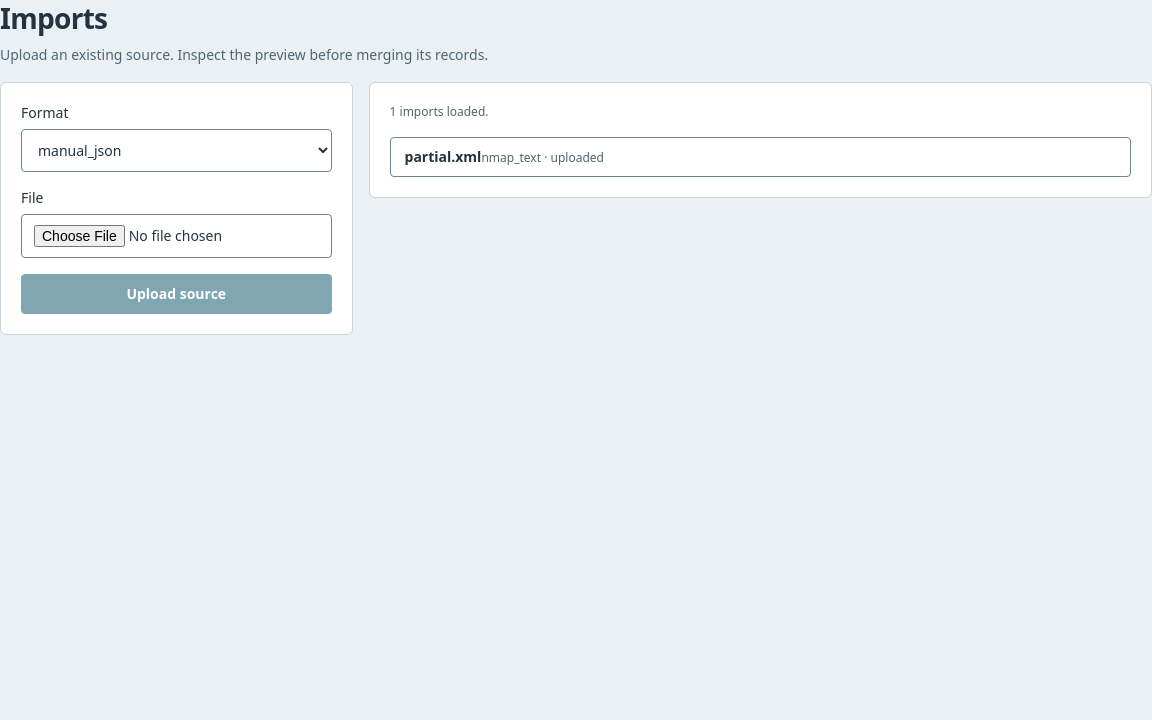
requires explicit review of partial import limitations before merge
Click the button "partial.xml" at [443, 157], box [390,137,1131,177]
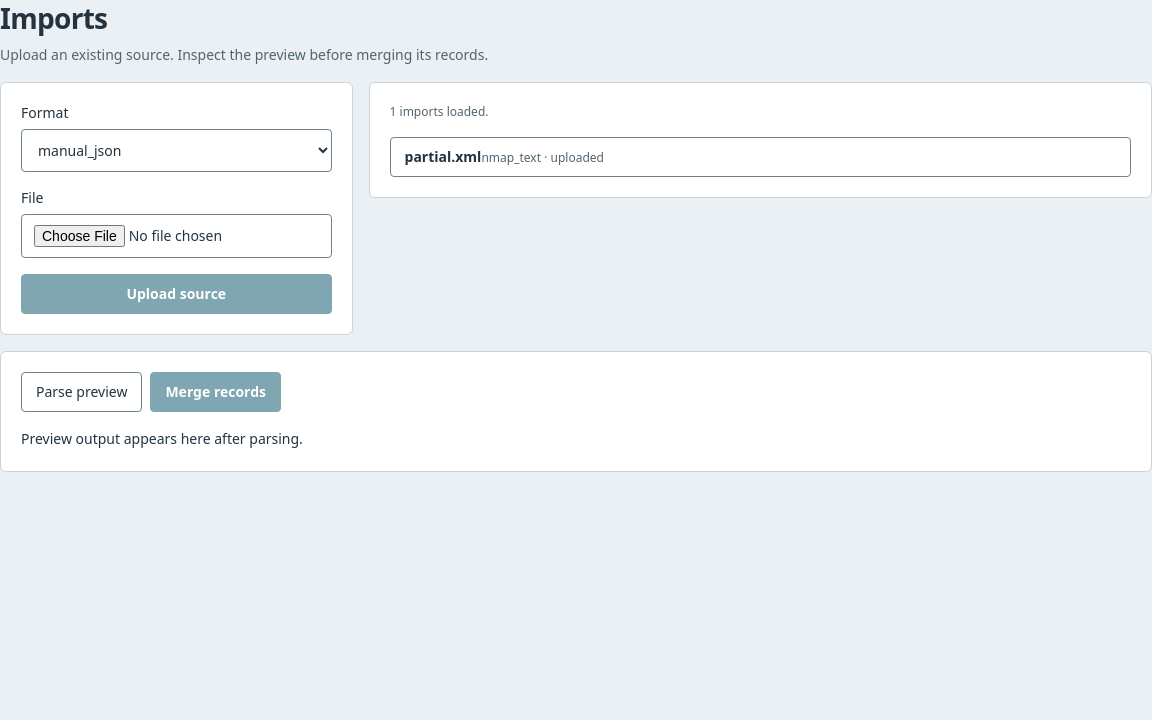
Click the button "Parse preview" at [82, 392], box [21,372,142,412]
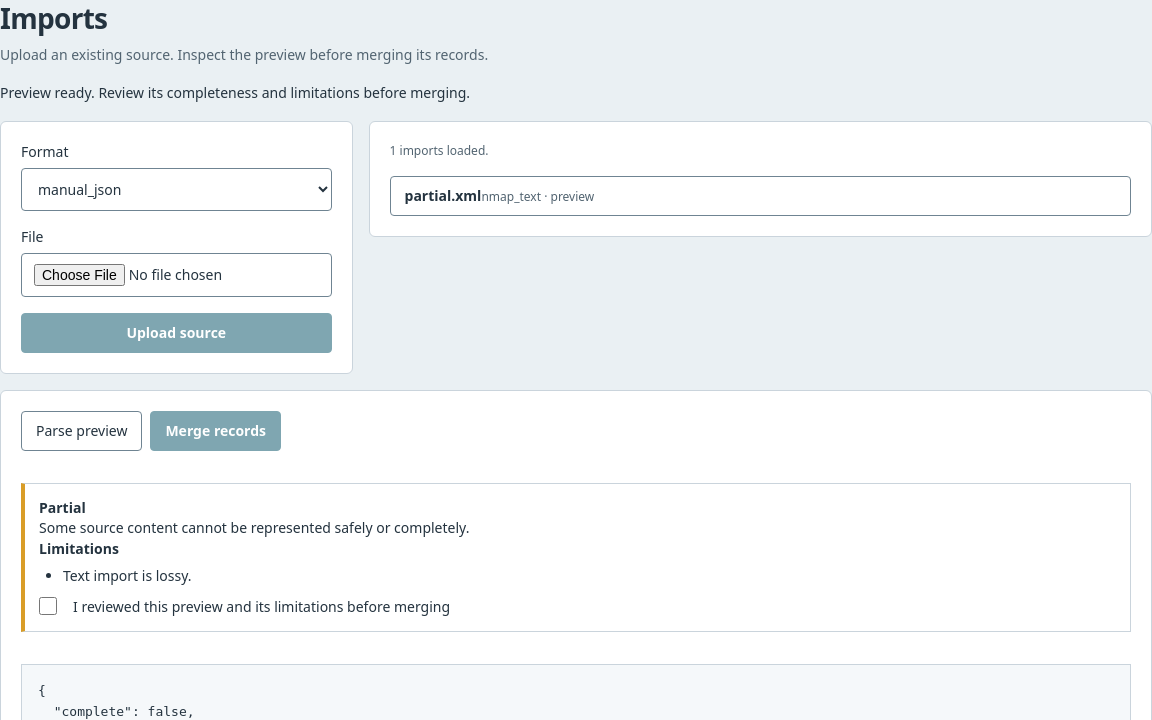
Expected: the button "Merge records" is disabled, [150,411,281,451]
Expected: the text "Partial" is shown, [39,498,86,517]
Click the checkbox labelled "I reviewed this preview and its limitations before merging" at [48, 606], box [39,597,57,615]
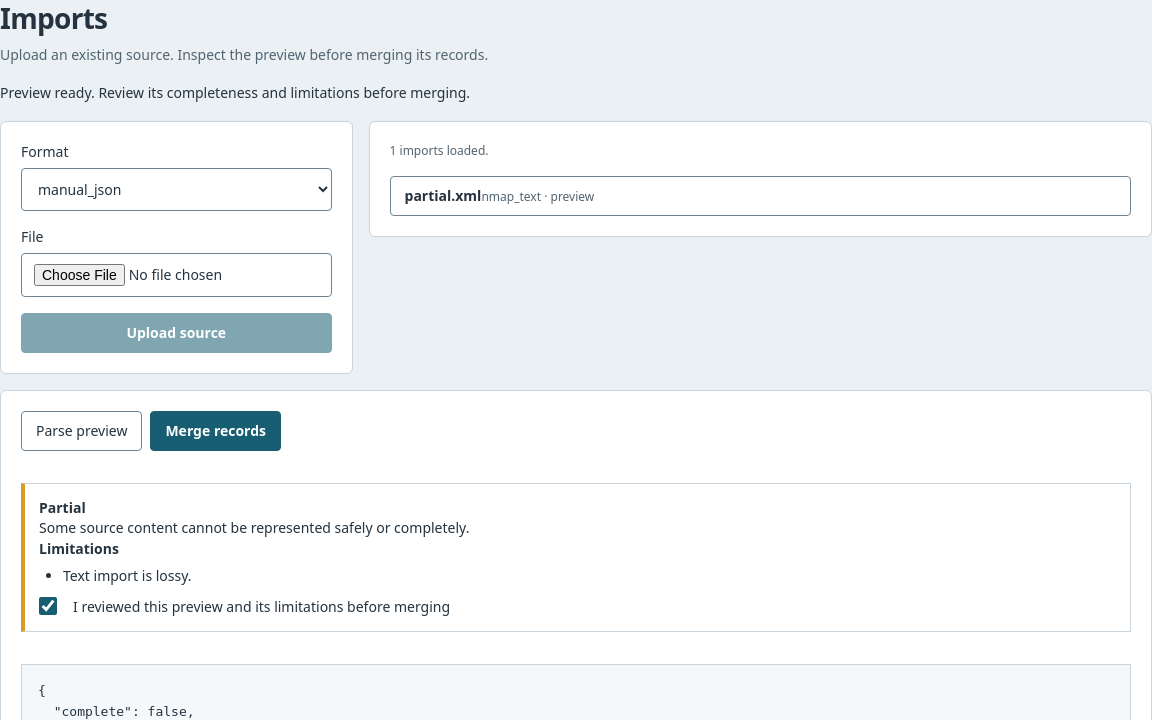
Expected: the button "Merge records" is enabled, [150,411,281,451]
